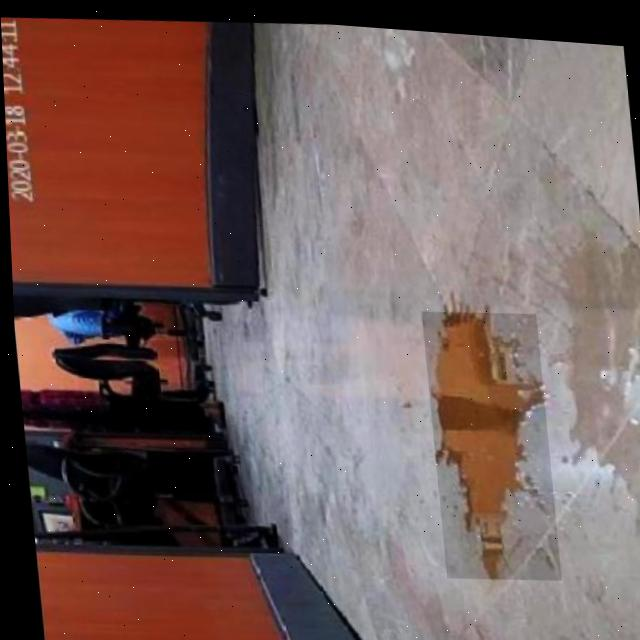spillage: (430, 304, 541, 570)
